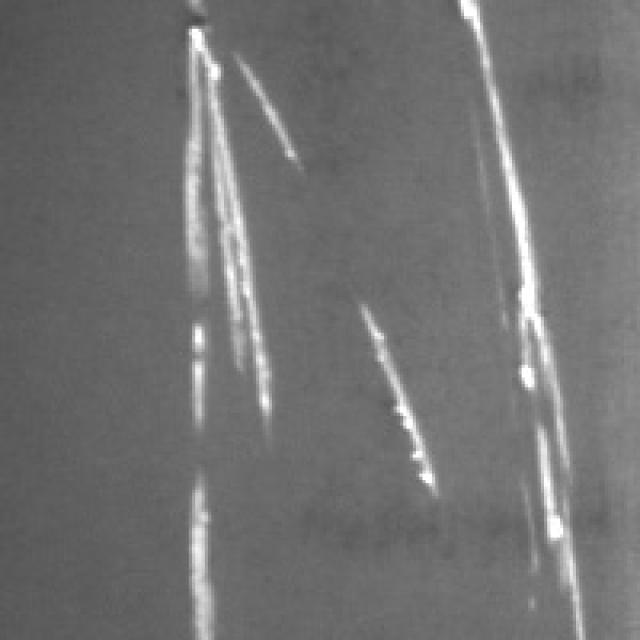scratches: (454, 0, 602, 634), (185, 16, 314, 458), (355, 291, 448, 499), (182, 464, 237, 634)
